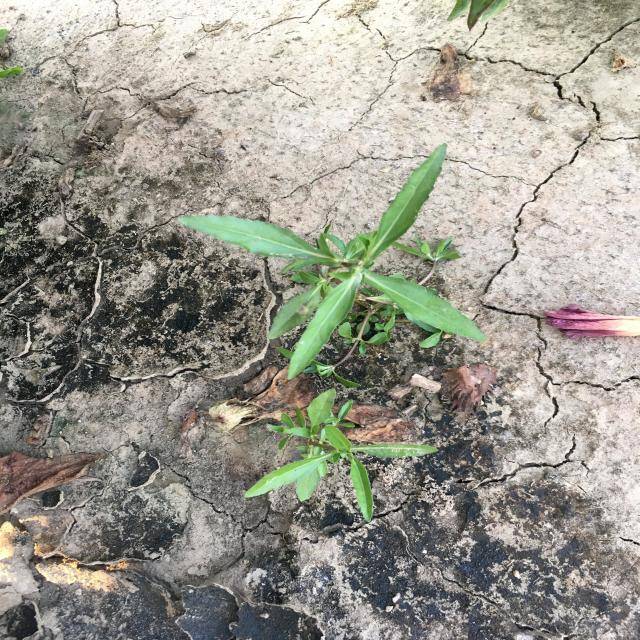Eclipta: (173, 141, 490, 389), (242, 386, 440, 525)
